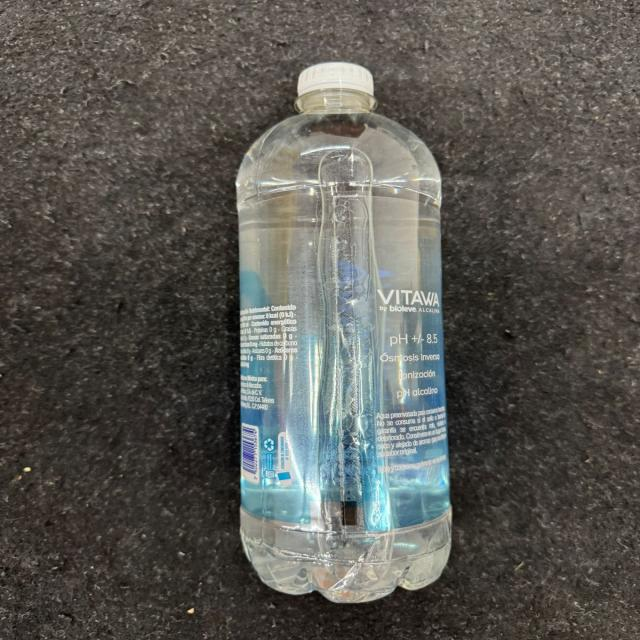AGUA ALCALINA VITAWA 1LT: (223, 51, 455, 600)
